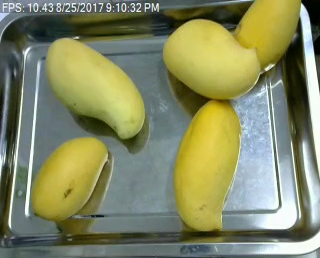Mango: (41, 37, 151, 139), (170, 98, 242, 231), (162, 16, 259, 99), (29, 134, 109, 222), (229, 1, 302, 79)
